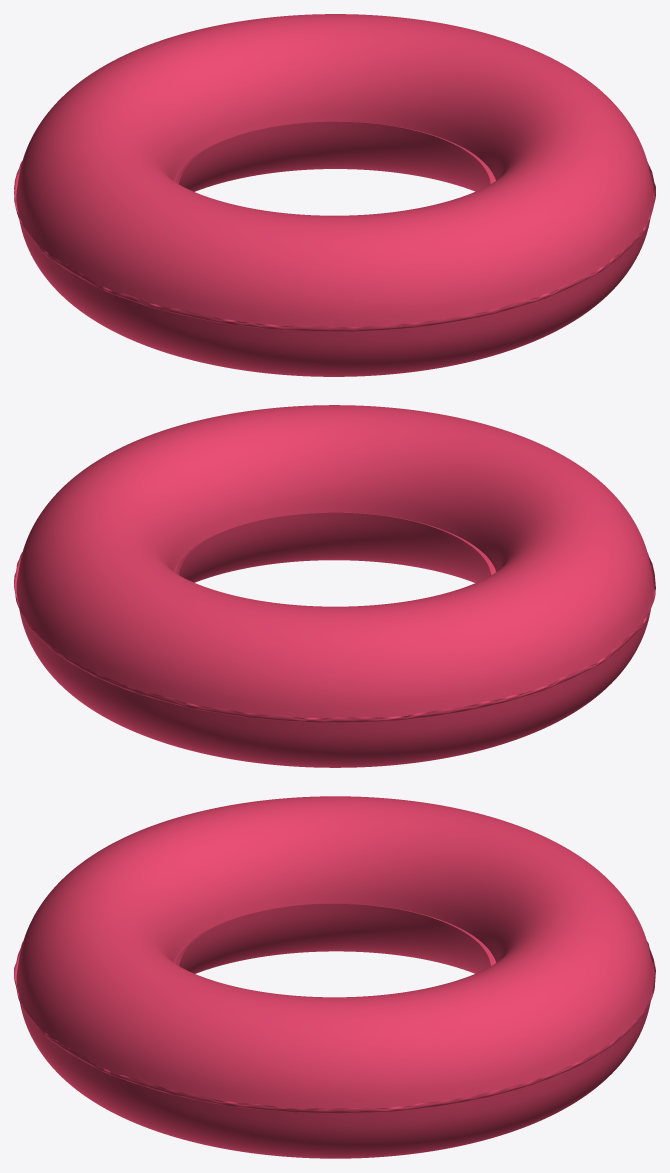
Rendered from floatingdonut.fbx.
3 views of the same model, one above another, from view 1: azimuth 30°, elevation 25°; view 2: azimuth 150°, elevation 25°; view 3: azimuth 270°, elevation 25° (orthographic).
Parts seen in each view (by area): view 1: Floatie; view 2: Floatie; view 3: Floatie.
Boxes of the visible parts, left/top/right/bottom form: Floatie: left=14, top=14, right=655, bottom=376; Floatie: left=14, top=405, right=655, bottom=767; Floatie: left=14, top=796, right=655, bottom=1158.
Bounding box in the file's own units: 308 × 76.8 × 308.
